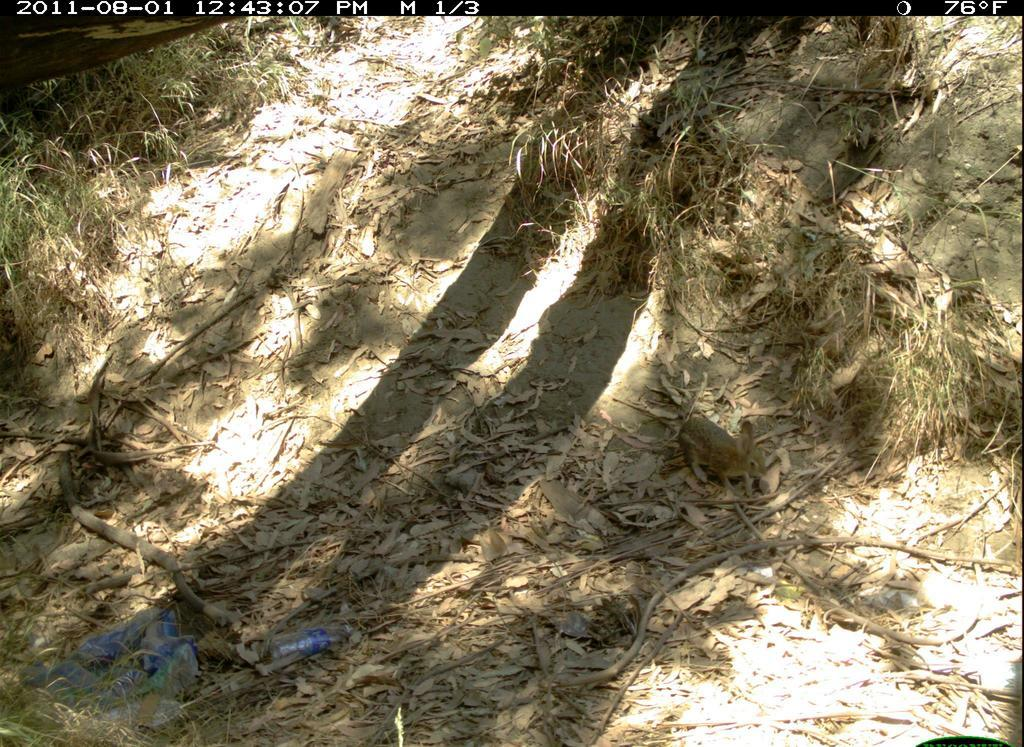rabbit: (675, 404, 776, 497)
